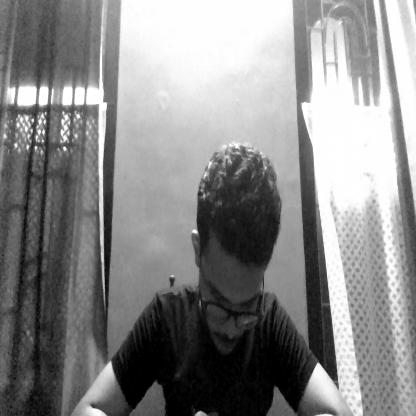Distracted: (193, 127, 282, 372)
